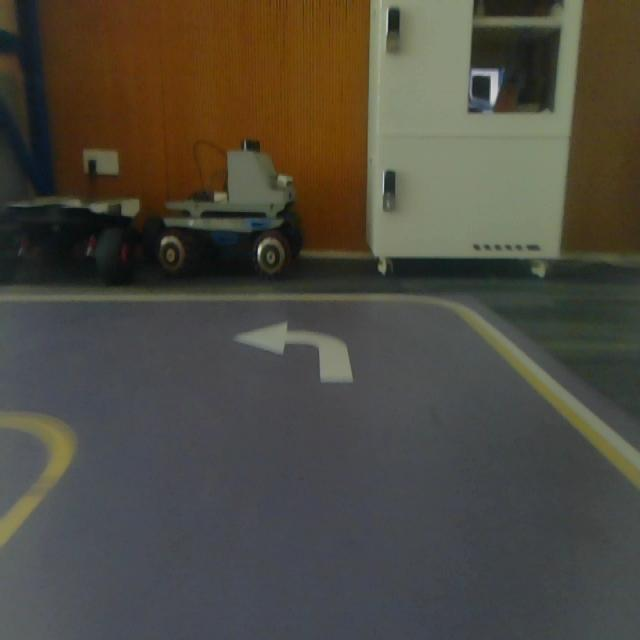left_lane: (0, 438, 78, 551)
right_lane: (459, 302, 640, 492)
